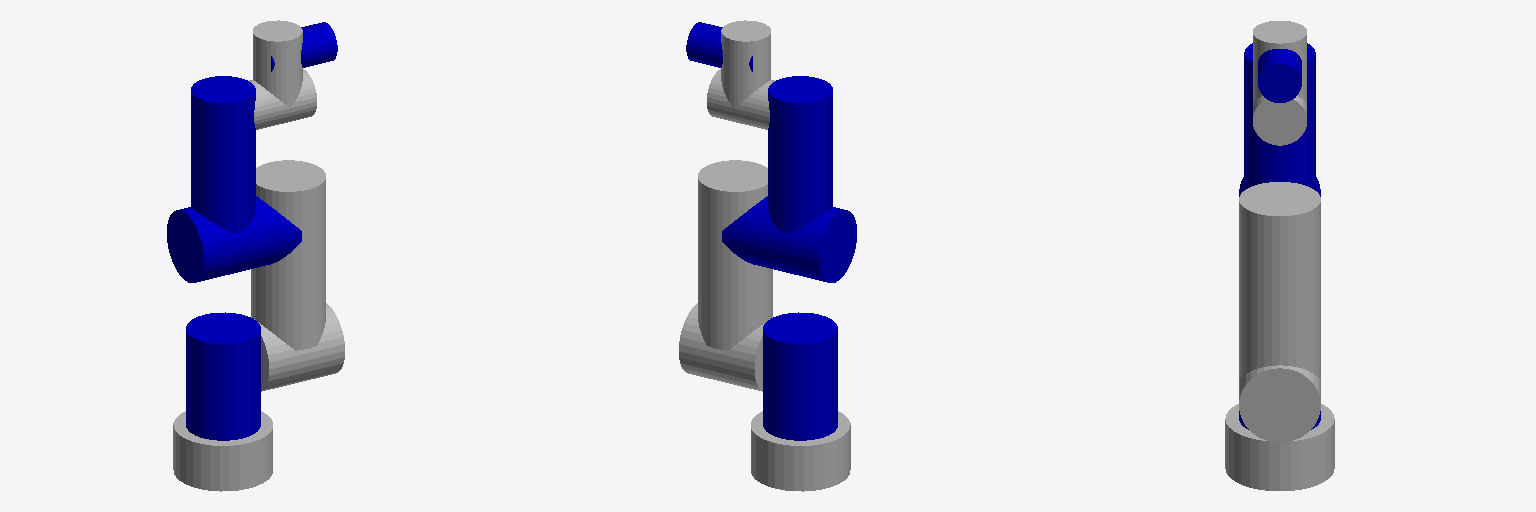
The robot description file, URDF, robot "ur3":
<?xml version="1.0"?>
<robot name="ur3">
     <link name="world"/>
     <link name="base">
         <visual>
             <geometry>
                 <cylinder length="0.20" radius="0.2"/>
             </geometry>
             <material name="metal">
                 <color rgba="0.75 0.75 0.75 1"/>
             </material>
             <origin rpy="0 0 0" xyz="0 0 0.025"/>
         </visual>
     </link>
     <joint name="union_base" type="fixed">
         <parent link="world"/>
         <child link="base"/>
     </joint>
     <link name="eje1">
                 <visual>
                         <geometry>
                            <cylinder length="0.5" radius="0.15"/>
                         </geometry>
                 <origin rpy="0 0 0" xyz="0 0 0.25"/>
                 <material name="blue">
                     <color rgba="0 0 0.8 1"/>
                 </material>
                 </visual>
         </link>
        <joint name="eje1" type="continuous">
                     <axis xyz="0 0 1"/>
             <parent link="base"/>
             <child link="eje1"/>
             <origin rpy="0 0 0" xyz="0 0 0.05"/>
         </joint>
        <link name="eje2">
                     <visual>
                             <geometry> 
                                 <cylinder length="0.35" radius="0.15"/>
                             </geometry>
                     <origin rpy="0 0 0" xyz="0 0 0.15"/>
                     <material name="metal">
                         <color rgba="0.75 0.75 0.75 1"/>
                     </material>
                     </visual>
         </link>
         <joint name="eje2" type="continuous">
                     <axis xyz="0 0 1"/>
             <parent link="eje1"/>
             <child link="eje2"/>
             <origin rpy="0 1.5708 0" xyz="0.15 0 0.35"/>
         </joint>
         <link name="brazo2">
             <visual>
                  <geometry>
                      <cylinder length="0.70" radius="0.15"/>
                 </geometry>
                 <material name="metal">
                     <color rgba="0.75 0.75 0.75 1"/>
                 </material>
                 <origin rpy="0 1.5708 0" xyz="-0.40 0 0.15"/>
             </visual>
         </link>
         <joint name="ejeBrazo2" type="fixed">
             <parent link="eje2"/>
             <child link="brazo2"/>
         </joint>
         <link name="eje3">
             <visual>
                 <geometry>
                     <cylinder length="0.45" radius="0.15"/>
                 </geometry>
                 <material name="blue">
                     <color rgba="0 0 0.8 1"/>
                 </material>
                <origin rpy="0 0 0" xyz="0 0 0"/>
            </visual>
         </link>
         <joint name="eje3" type="continuous">
                 <axis xyz="0 0 1"/>
             <parent link="brazo2"/>
             <child link="eje3"/>
             <origin rpy="0 0 0" xyz="-0.55 0 -0.1"/>
          </joint>
         <link name="brazo3">
             <visual>
                 <geometry>
                     <cylinder length="0.70" radius="0.13"/>
                 </geometry>
                 <material name="blue">
                     <color rgba="0 0 0.8 1"/>
                 </material>
                 <origin rpy="0 1.5708 0" xyz="-0.30 0 -0.05"/>
             </visual>
         </link>
         <joint name="brazoeje3" type="fixed">
             <parent link="eje3"/>
             <child link="brazo3"/>
         </joint>
         <link name="eje4">
             <visual>
                 <geometry>
                     <cylinder length="0.45" radius="0.10"/>
                 </geometry>
                 <material name="metal">
                     <color rgba="0.75 0.75 0.75 1"/>
                 </material>
                 <origin rpy="0 0 0" xyz="0 0 0"/>
             </visual>
         </link>
         <joint name="eje4" type="continuous">
                     <axis xyz="0 0 1"/>
             <parent link="brazo3"/>
             <child link="eje4"/>
            <origin rpy="0 0 0" xyz="-0.55 0 0.1"/>
         </joint>
         <link name="eje5">
             <visual>
                 <geometry>
                     <cylinder length="0.30" radius="0.10"/>
                 </geometry>
                 <material name="metal">
                     <color rgba="0.75 0.75 0.75 1"/>
                 </material>
                 <origin rpy="0 0 0" xyz="0 0 0"/>
             </visual>
         </link>
         <joint name="eje5" type="continuous">
                     <axis xyz="0 0 1"/>
             <parent link="eje4"/>
             <child link="eje5"/>
             <origin rpy="0 1.5708 0" xyz="-0.15 0 0.1"/>
         </joint>
         <link name="eje6">
             <visual>
                 <geometry>
                     <cylinder length="0.30" radius="0.08"/>
                 </geometry>
                 <material name="blue">
                     <color rgba="0 0 0.8 1"/>
                 </material>
                 <origin rpy="0 0 0" xyz="0 0 0"/>
             </visual>
         </link>
         <joint name="eje6" type="continuous">
                     <axis xyz="0 0 1"/>
             <parent link="eje5"/>
             <child link="eje6"/>
            <origin rpy="0 1.5708 0" xyz="-0.08 0 -0.05"/>
         </joint>
 </robot>

--- Render facts (derived) ---
3 views of the same robot in one strip: view 1: azimuth 30°, elevation 25°; view 2: azimuth 150°, elevation 25°; view 3: azimuth 270°, elevation 25° (orthographic).
Robot: ur3 — 10 links, 9 joints (6 continuous, 3 fixed); root link world; default pose: all joints at 0.
Links seen in each view (by area): view 1: brazo2, brazo3, eje1, eje3, base, eje2, eje5, eje4, eje6; view 2: brazo2, brazo3, eje1, eje3, base, eje2, eje5, eje4, eje6; view 3: brazo2, base, eje2, brazo3, eje4, eje5, eje6.
Boxes of the visible links, x1,y1,x2,y2 form: brazo2: [251, 160, 325, 350]; brazo3: [191, 76, 255, 232]; eje1: [186, 312, 260, 440]; eje3: [167, 196, 301, 282]; base: [173, 411, 272, 491]; eje2: [251, 303, 344, 391]; eje5: [253, 20, 302, 107]; eje4: [249, 69, 316, 129]; eje6: [271, 22, 337, 71]; brazo2: [698, 160, 772, 350]; brazo3: [768, 76, 832, 232]; eje1: [763, 312, 837, 440]; eje3: [722, 196, 856, 282]; base: [751, 411, 850, 491]; eje2: [679, 303, 772, 391]; eje5: [721, 20, 770, 107]; eje4: [707, 69, 774, 129]; eje6: [686, 22, 752, 71]; brazo2: [1239, 182, 1320, 378]; base: [1225, 404, 1334, 490]; eje2: [1239, 365, 1320, 442]; brazo3: [1244, 43, 1315, 190]; eje4: [1253, 96, 1306, 145]; eje5: [1253, 21, 1306, 102]; eje6: [1258, 49, 1301, 102].
Bounding box of the posed robot: 0.68 × 0.4 × 1.88 m (x, y, z).
Geometry: primitives only (box / cylinder / sphere), no mesh files.